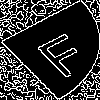F: (25, 25, 97, 81)
